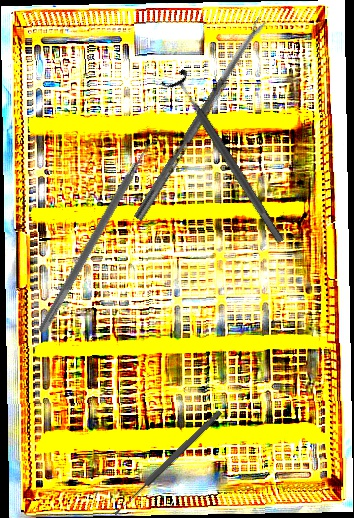Fixation Ring: (160, 67, 294, 250)
Spatula Surgical: (37, 131, 164, 340)
Surgical Spoon: (133, 16, 268, 223), (111, 409, 224, 517)
